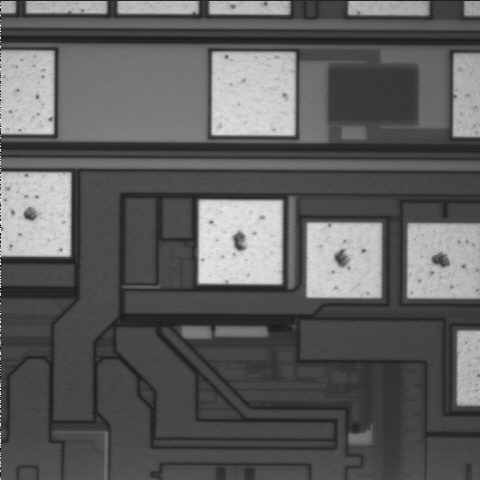pad: (199, 200, 282, 284), (212, 52, 295, 135), (307, 223, 381, 298)
